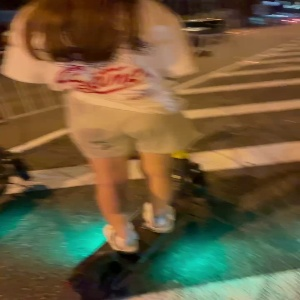human on a scooter: (2, 1, 217, 300)
